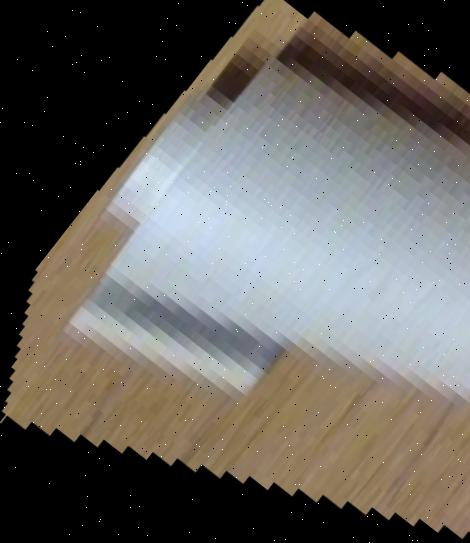white: (0, 1, 470, 543)
